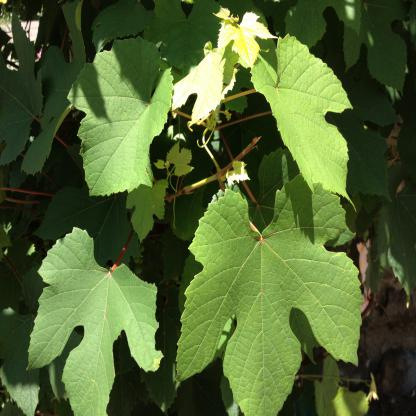grape leaf: (175, 180, 365, 416), (21, 229, 162, 415), (61, 33, 178, 203), (251, 34, 359, 209), (216, 12, 279, 69)
